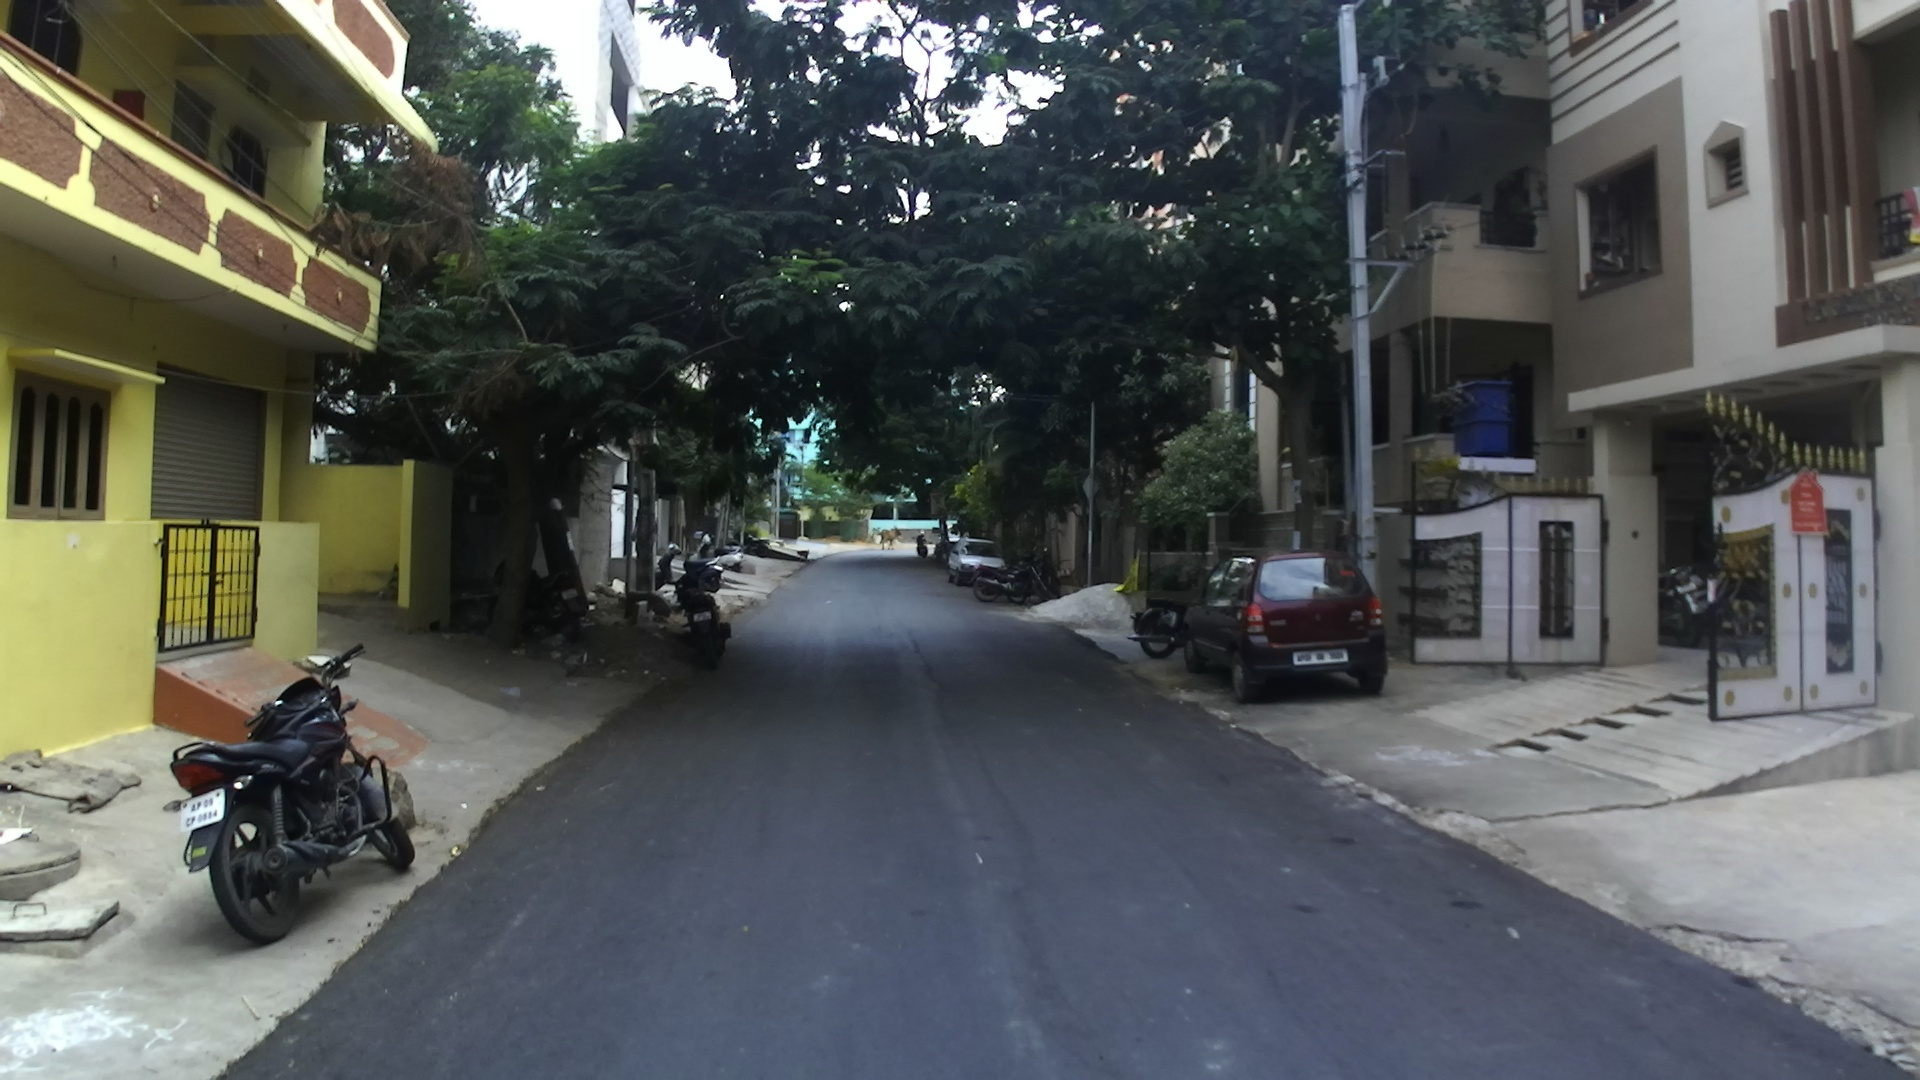vehicle: (167, 644, 419, 944), (1182, 553, 1389, 699), (1133, 556, 1212, 655), (1133, 597, 1197, 657), (949, 547, 1009, 588), (777, 543, 812, 564)
